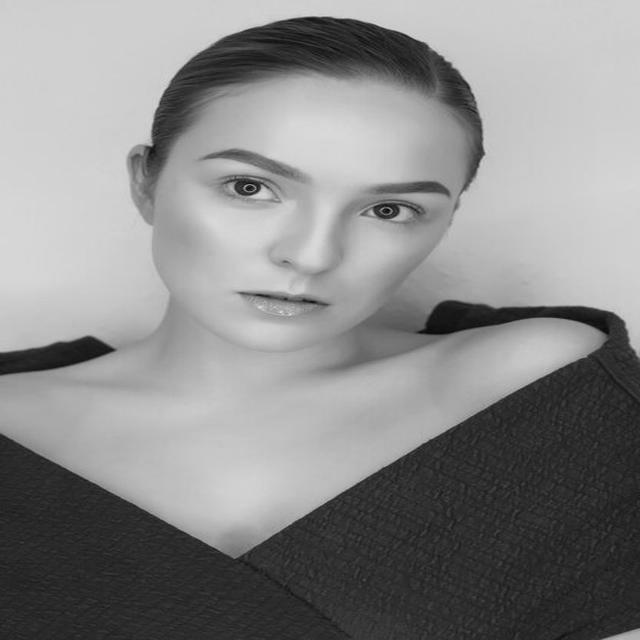Neutral: (152, 84, 466, 353)
